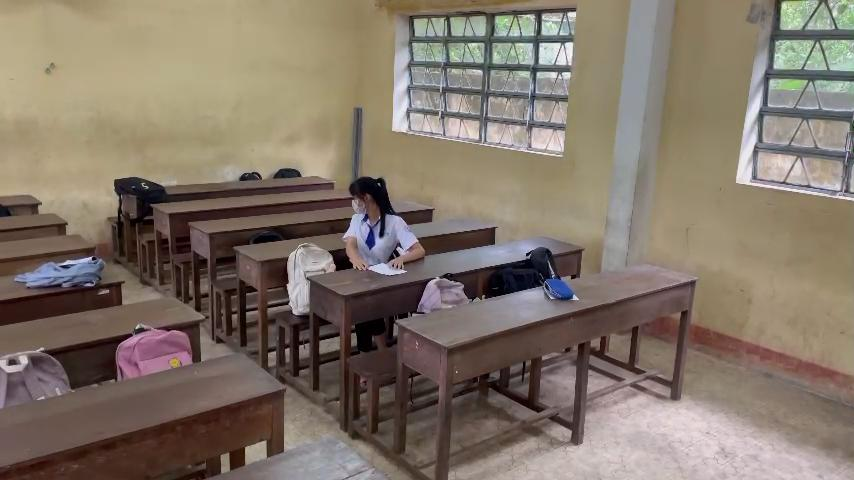Look Around: (334, 165, 392, 222)
